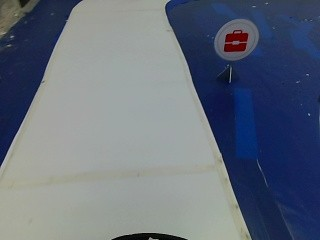company: (210, 18, 258, 61)
